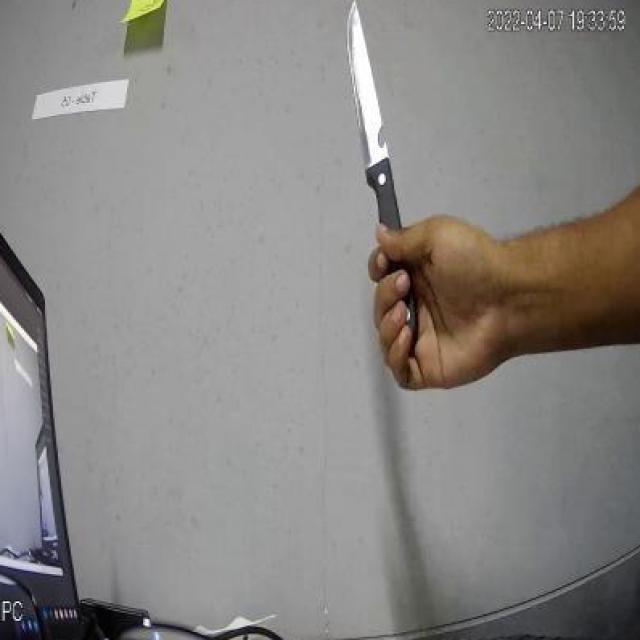Knife: (336, 5, 426, 328)
